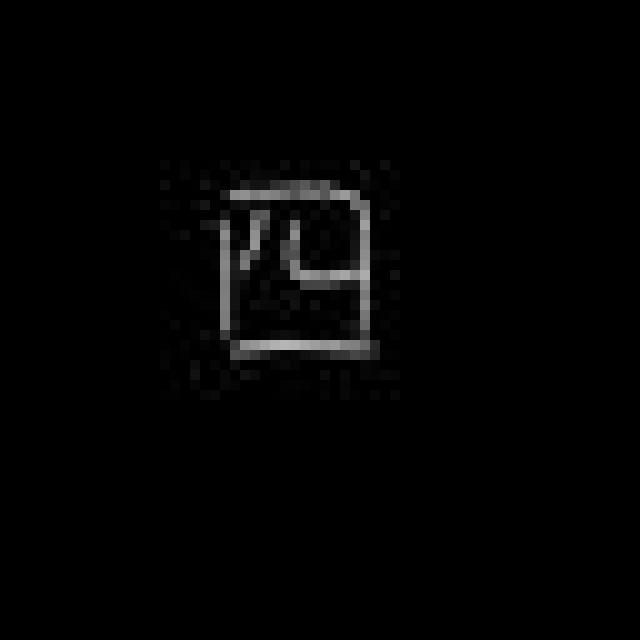4 -four-: (198, 174, 388, 378)
